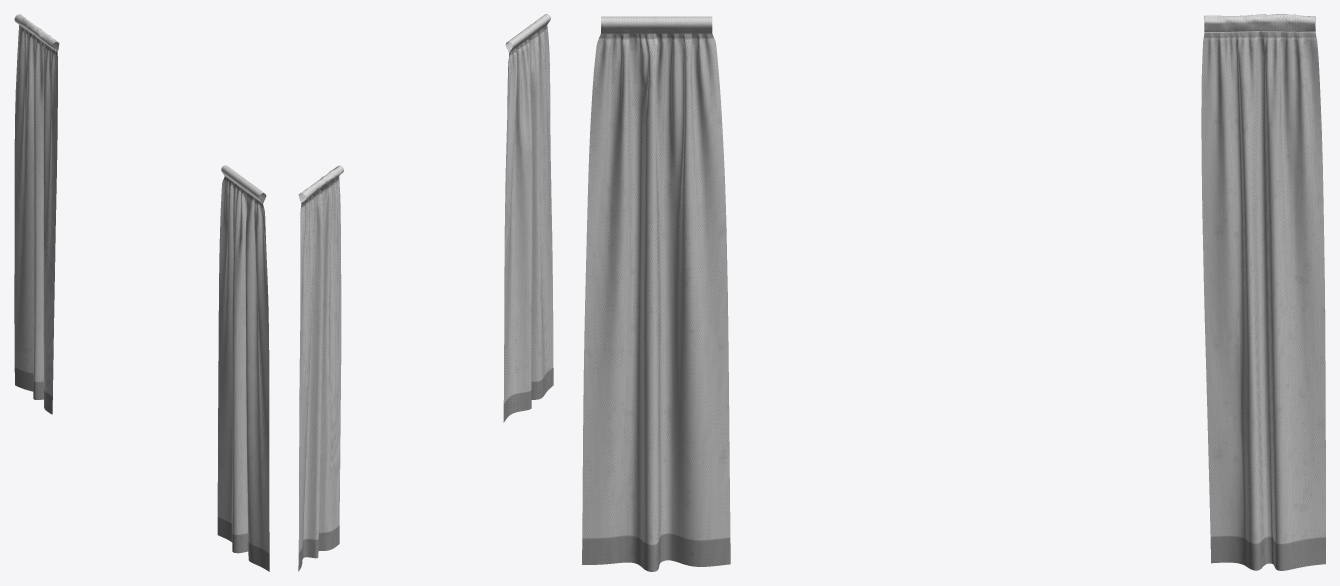
Rendered from SM_Curtains.fbx.
3 renders of one model, left to right at view 1: azimuth 30°, elevation 25°; view 2: azimuth 150°, elevation 25°; view 3: azimuth 270°, elevation 25°, orthographic. The views are drawn at different scales.
Parts seen in each view (by area): view 1: SM_Curtains_LOD0; view 2: SM_Curtains_LOD0; view 3: SM_Curtains_LOD0.
Part boxes in pixels (bbox=[...]): SM_Curtains_LOD0: bbox=[14, 14, 269, 571]; SM_Curtains_LOD0: bbox=[298, 14, 553, 571]; SM_Curtains_LOD0: bbox=[582, 14, 1325, 571].
Bounding box in the file's own units: 12.13 × 306 × 250.
Materials: 1 (1 with a texture image).
